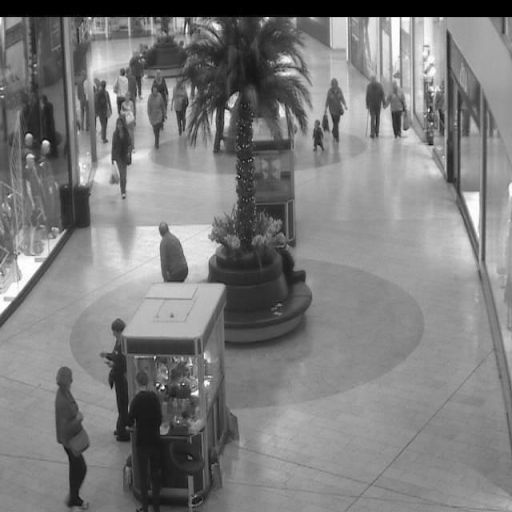person: (56, 366, 88, 511), (129, 372, 162, 512), (102, 318, 131, 440), (156, 221, 190, 282), (111, 117, 134, 199), (321, 76, 347, 141), (383, 78, 408, 137), (364, 75, 384, 140), (146, 86, 165, 149), (171, 76, 189, 137), (95, 79, 110, 144), (152, 70, 169, 120), (125, 62, 139, 113), (113, 63, 126, 116), (131, 53, 145, 97), (119, 94, 135, 125), (312, 120, 324, 151)
